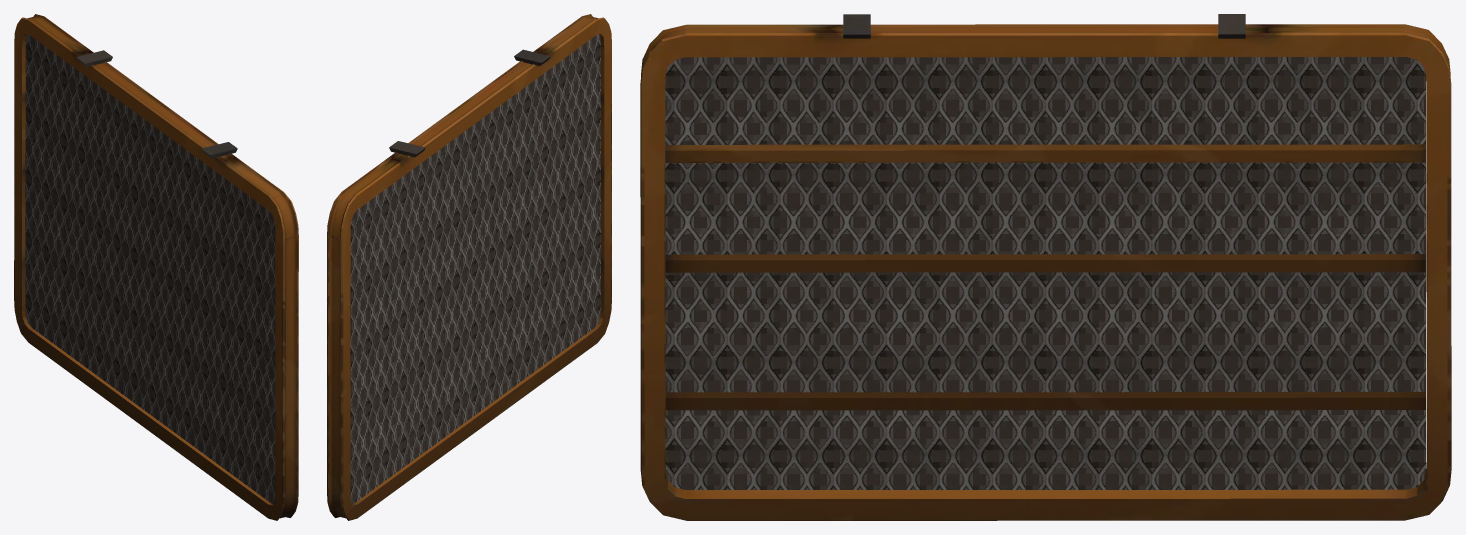
The picture shows the model from 3 angles, left to right: view 1: azimuth 30°, elevation 25°; view 2: azimuth 150°, elevation 25°; view 3: azimuth 270°, elevation 25°; orthographic projection. The views are drawn at different scales.
Parts seen in each view (by area): view 1: body0_model0_lod0_mesh0, body0_model0_lod0_mesh1; view 2: body0_model0_lod0_mesh0, body0_model0_lod0_mesh1; view 3: body0_model0_lod0_mesh0, body0_model0_lod0_mesh1.
Boxes of the visible parts, x1,y1,x2,y2 form: body0_model0_lod0_mesh0: [25, 34, 275, 503]; body0_model0_lod0_mesh1: [14, 14, 298, 520]; body0_model0_lod0_mesh0: [350, 34, 600, 503]; body0_model0_lod0_mesh1: [327, 14, 611, 520]; body0_model0_lod0_mesh0: [665, 57, 1425, 489]; body0_model0_lod0_mesh1: [640, 14, 1451, 520].
Size of the model in its own units: 9.04 by 101 by 151.
2 materials, 2 textured.
